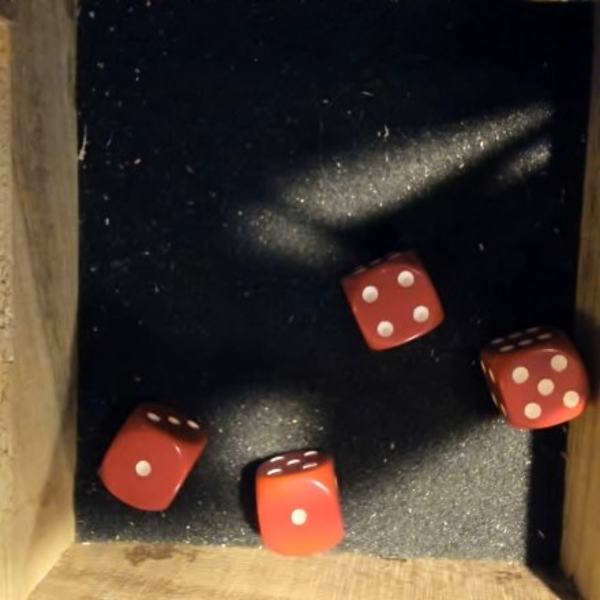red_die_pip1: (90, 392, 210, 524), (250, 448, 346, 563)
red_die_pip4: (336, 241, 449, 359)
red_die_pip5: (477, 318, 597, 440)
